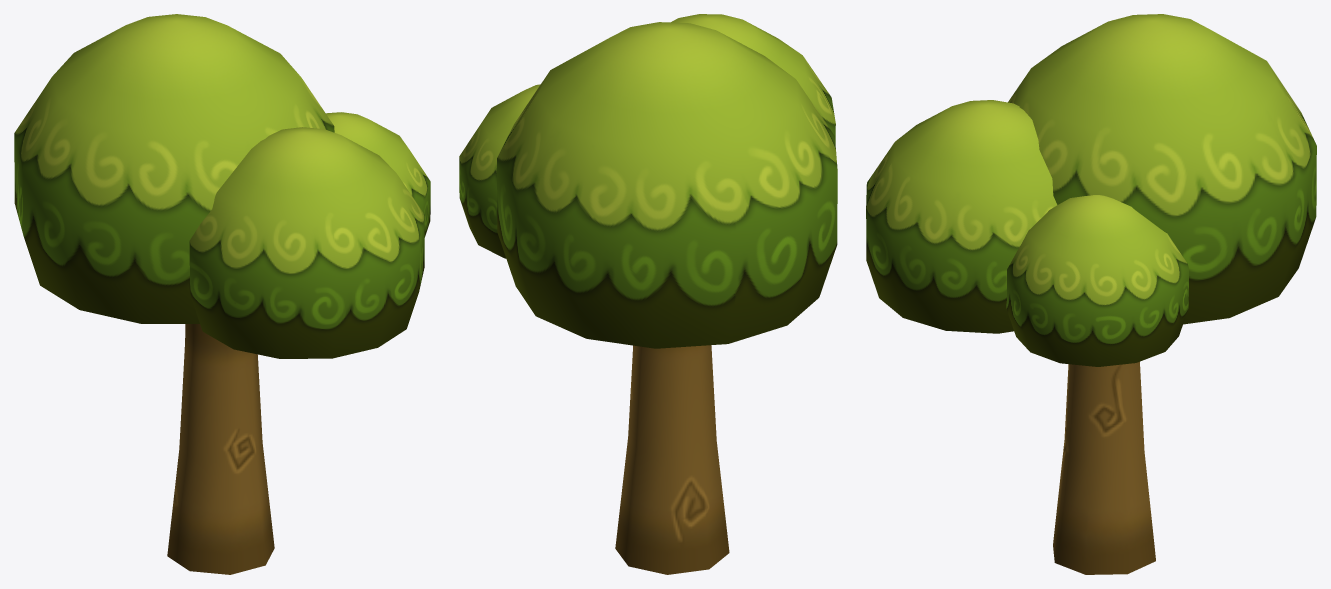
File: Tree3.FBX
3 renders of one model, left to right at view 1: azimuth 30°, elevation 25°; view 2: azimuth 150°, elevation 25°; view 3: azimuth 270°, elevation 25°, orthographic. The views are drawn at different scales.
Visible parts, largest first — view 1: Tree 3; view 2: Tree 3; view 3: Tree 3.
Part boxes in pixels (left/top/right/bottom): Tree 3: left=14, top=14, right=430, bottom=574; Tree 3: left=459, top=14, right=837, bottom=574; Tree 3: left=866, top=14, right=1316, bottom=574.
Bounding box in the file's own units: 86.13 × 120 × 94.23.
